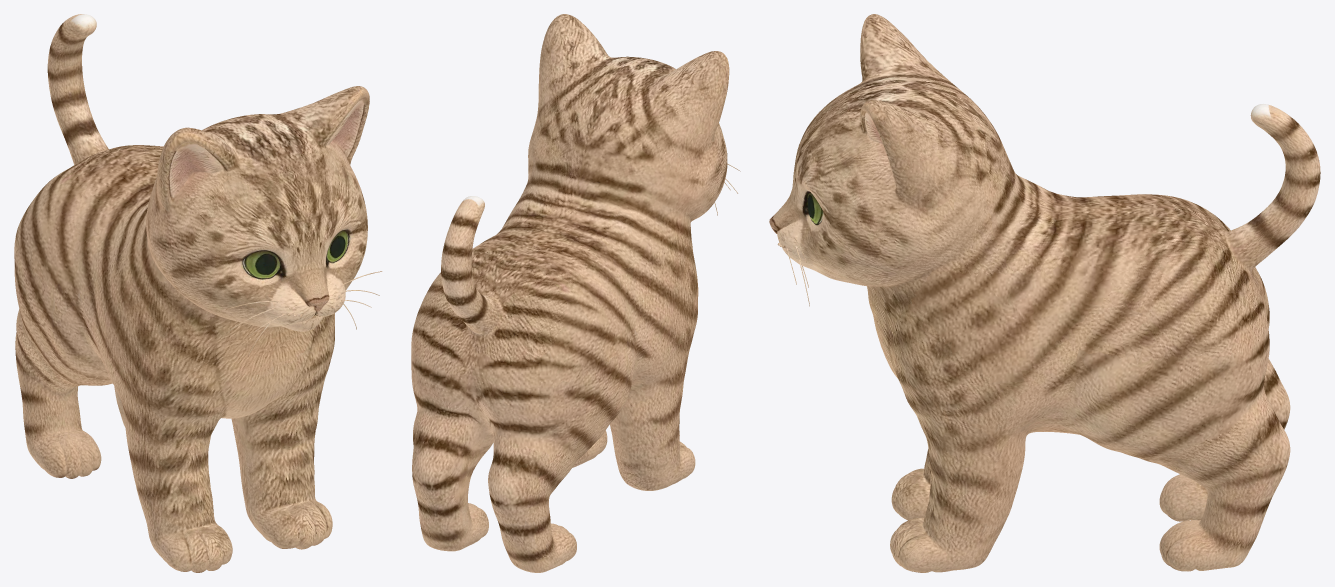
The model's file is meshy-australianmist.glb.
The picture shows the model from 3 angles, left to right: view 1: azimuth 30°, elevation 25°; view 2: azimuth 150°, elevation 25°; view 3: azimuth 270°, elevation 25°; orthographic projection. The views are drawn at different scales.
Visible parts, largest first — view 1: Mesh_0; view 2: Mesh_0; view 3: Mesh_0.
Boxes of the visible parts, box(x1,y1,x2,y2) form: Mesh_0: box(14, 14, 382, 572); Mesh_0: box(411, 14, 740, 572); Mesh_0: box(769, 14, 1320, 572).
Bounding box in the file's own units: 0.8454 × 1.82 × 1.9.
1 material, 1 textured.
